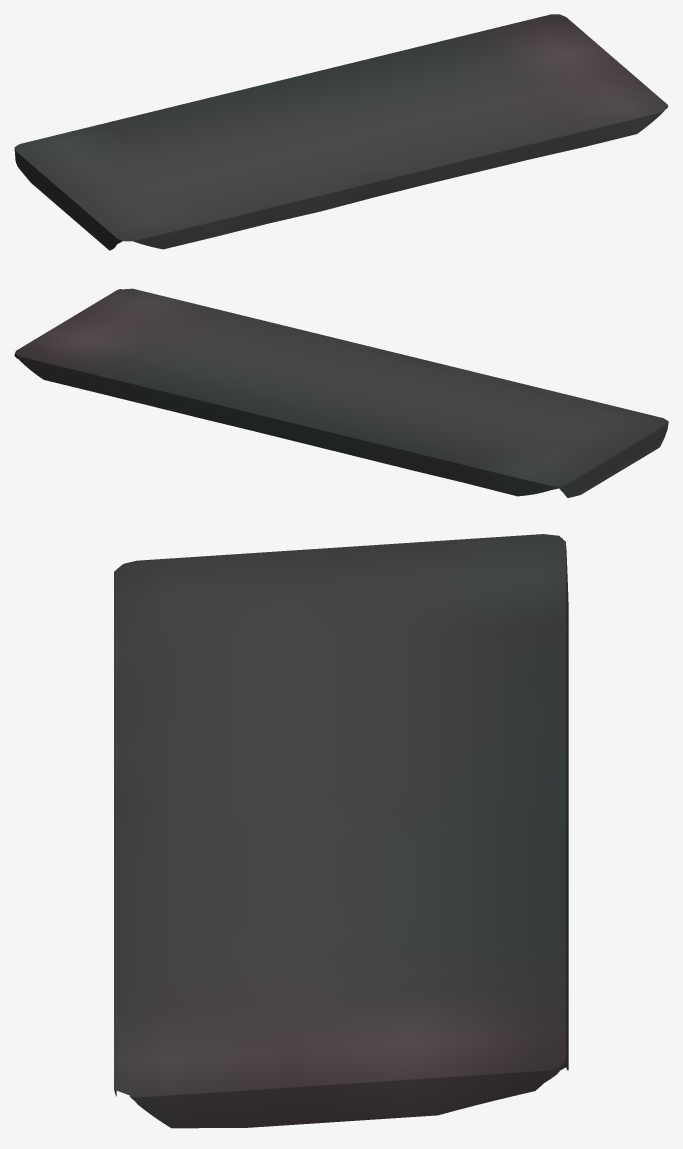
Rendered from keyboard.gltf.
The picture shows the model from 3 angles, top to bottom: view 1: azimuth 30°, elevation 25°; view 2: azimuth 150°, elevation 25°; view 3: azimuth 270°, elevation 25°; orthographic projection. The views are drawn at different scales.
Parts seen in each view (by area): view 1: Keyboard; view 2: Keyboard; view 3: Keyboard.
Boxes of the visible parts, left/top/right/bottom form: Keyboard: left=14, top=14, right=668, bottom=250; Keyboard: left=14, top=288, right=668, bottom=497; Keyboard: left=114, top=534, right=568, bottom=1128.
Bounding box in the file's own units: 0.5701 × 0.0331 × 0.2041.
Materials: 1 (1 with a texture image).
